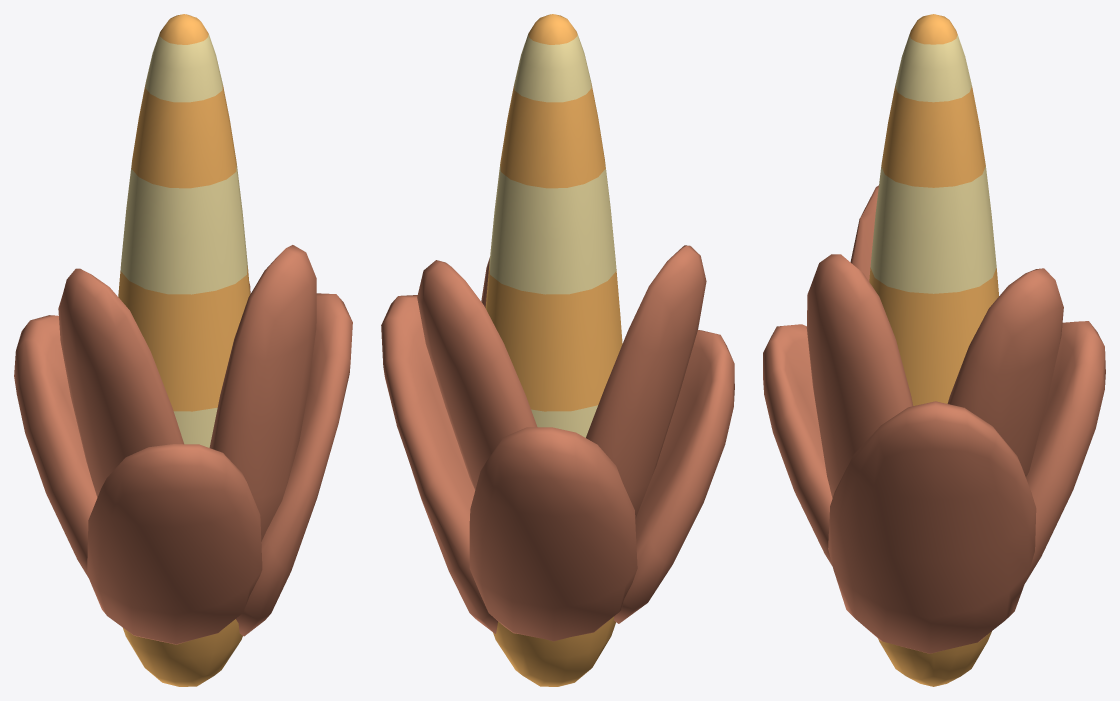
Rendered from Spiker_03.fbx.
The picture shows the model from 3 angles, left to right: view 1: azimuth 30°, elevation 25°; view 2: azimuth 150°, elevation 25°; view 3: azimuth 270°, elevation 25°; orthographic projection.
Parts seen in each view (by area): view 1: Spiker_03_LOD0; view 2: Spiker_03_LOD0; view 3: Spiker_03_LOD0.
Part boxes in pixels (bbox=[...]): Spiker_03_LOD0: bbox=[14, 14, 352, 686]; Spiker_03_LOD0: bbox=[381, 14, 734, 686]; Spiker_03_LOD0: bbox=[763, 14, 1105, 686].
Size of what is drawn, in the model's own units: 378 by 825 by 385.
